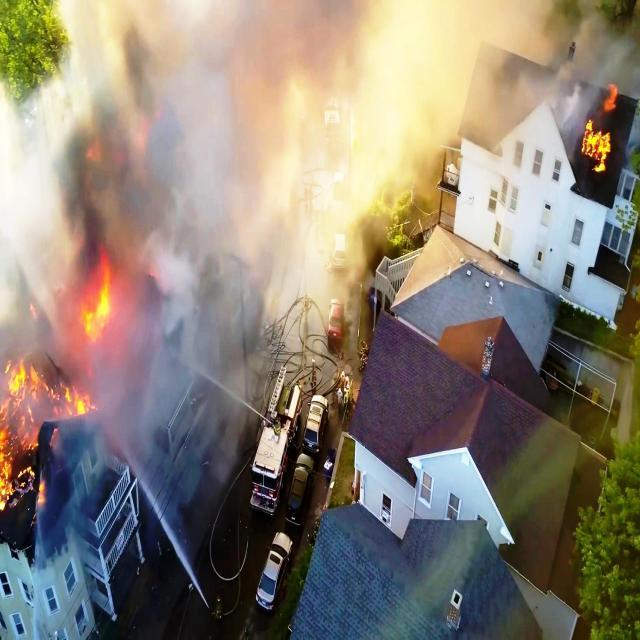Fire: (2, 356, 78, 430), (80, 258, 118, 340), (585, 112, 607, 184)
Smoke: (77, 0, 296, 223)
